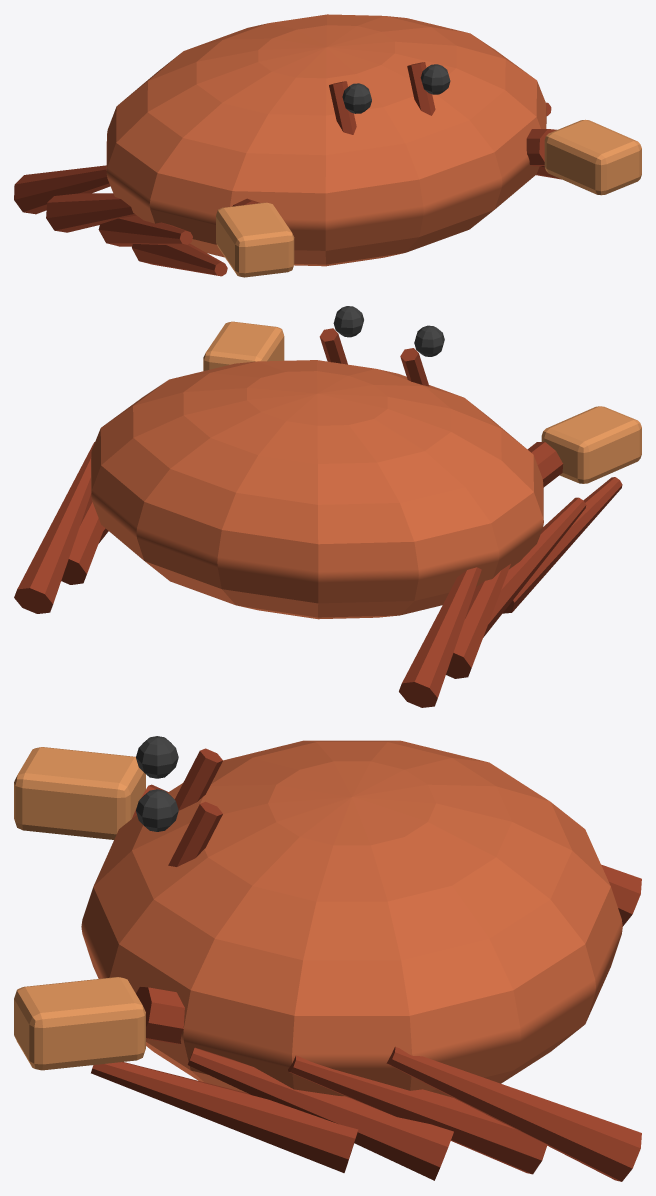
File: crab.glb
3 renders of one model, top to bottom at view 1: azimuth 30°, elevation 25°; view 2: azimuth 150°, elevation 25°; view 3: azimuth 270°, elevation 25°, orthographic. The views are drawn at different scales.
Parts seen in each view (by area): view 1: Crab_Body; view 2: Crab_Body; view 3: Crab_Body.
Boxes of the visible parts, x1,y1,x2,y2 form: Crab_Body: (14, 14, 641, 277); Crab_Body: (14, 306, 641, 707); Crab_Body: (14, 736, 641, 1181).
Bounding box in the file's own units: 2.42 × 1.14 × 2.19.
